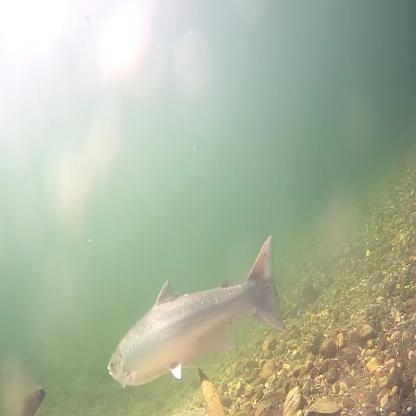salmon: (106, 231, 289, 388)
